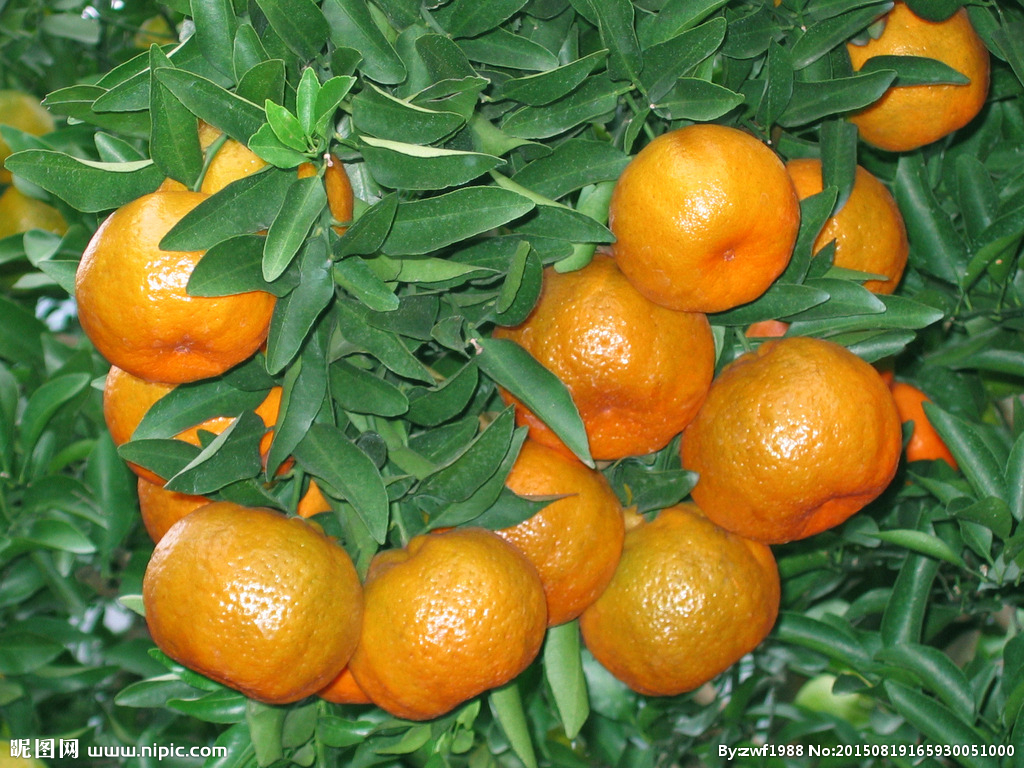orange: (487, 258, 716, 464), (682, 333, 898, 543), (144, 493, 361, 702), (573, 493, 786, 698), (344, 524, 548, 719), (77, 192, 282, 382), (607, 127, 805, 314), (436, 437, 627, 629), (163, 114, 355, 289), (802, 1, 993, 157), (102, 338, 287, 483), (751, 152, 914, 316), (132, 407, 299, 542)
